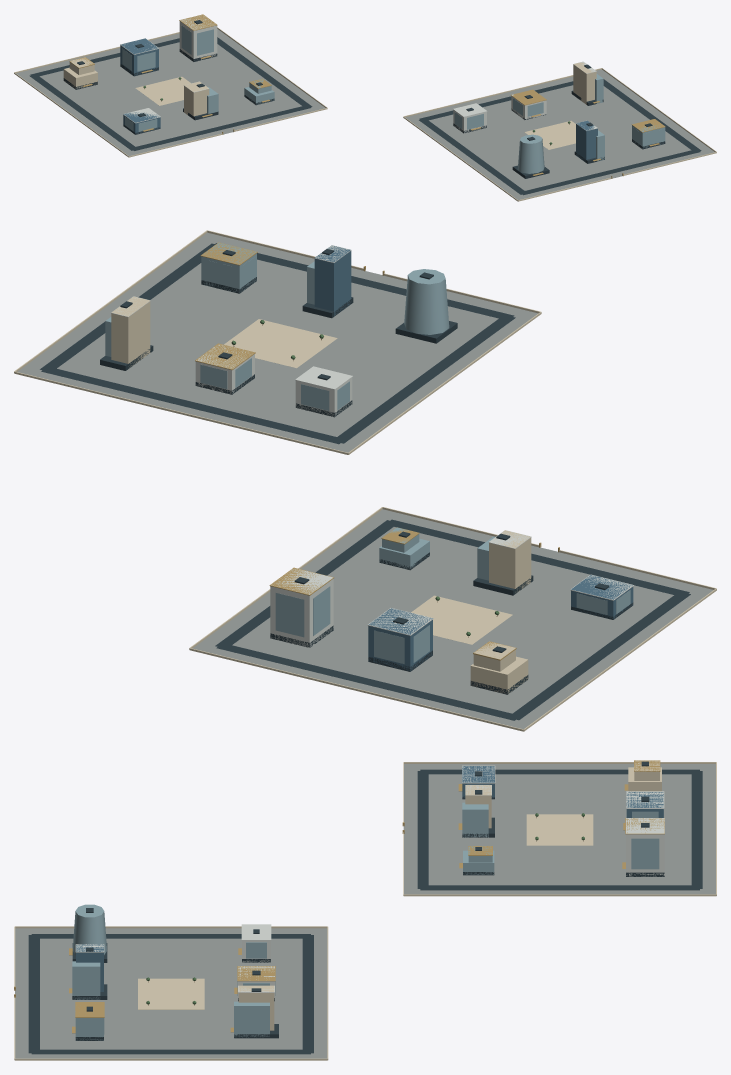
The model's file is GC-TILE-17-15.glb.
The picture shows the model from 3 angles, top to bottom: view 1: azimuth 30°, elevation 25°; view 2: azimuth 150°, elevation 25°; view 3: azimuth 270°, elevation 25°; orthographic projection. The views are drawn at different scales.
Visible parts, largest first — view 1: GC-TILE-17-15-paving, GC-TILE-17-15-dark, GC-TILE-17-15-ivory, GC-TILE-17-15-glass, GC-TILE-17-15-white, GC-TILE-17-15-blue, GC-TILE-17-15-gold; view 2: GC-TILE-17-15-paving, GC-TILE-17-15-dark, GC-TILE-17-15-ivory, GC-TILE-17-15-glass, GC-TILE-17-15-white, GC-TILE-17-15-blue, GC-TILE-17-15-gold; view 3: GC-TILE-17-15-paving, GC-TILE-17-15-dark, GC-TILE-17-15-ivory, GC-TILE-17-15-glass, GC-TILE-17-15-white, GC-TILE-17-15-gold, GC-TILE-17-15-blue.
Part boxes in pixels (box(x1,y1,x2,y2)): GC-TILE-17-15-paving: box(16, 29, 714, 200); GC-TILE-17-15-dark: box(29, 20, 701, 195); GC-TILE-17-15-ivory: box(14, 27, 716, 201); GC-TILE-17-15-glass: box(122, 25, 665, 173); GC-TILE-17-15-white: box(120, 15, 597, 133); GC-TILE-17-15-blue: box(120, 38, 597, 162); GC-TILE-17-15-gold: box(69, 14, 665, 178); GC-TILE-17-15-paving: box(17, 232, 713, 729); GC-TILE-17-15-dark: box(40, 243, 690, 720); GC-TILE-17-15-ivory: box(14, 230, 716, 731); GC-TILE-17-15-glass: box(105, 242, 630, 663); GC-TILE-17-15-white: box(111, 245, 634, 647); GC-TILE-17-15-blue: box(314, 245, 633, 671); GC-TILE-17-15-gold: box(195, 242, 559, 660); GC-TILE-17-15-paving: box(15, 764, 715, 1058); GC-TILE-17-15-dark: box(28, 761, 702, 1054); GC-TILE-17-15-ivory: box(14, 760, 716, 1060); GC-TILE-17-15-glass: box(72, 784, 663, 1040); GC-TILE-17-15-white: box(75, 765, 664, 999); GC-TILE-17-15-gold: box(14, 760, 664, 1033); GC-TILE-17-15-blue: box(76, 766, 663, 991).
Size of the model in its own units: 759 by 54.05 by 760.
